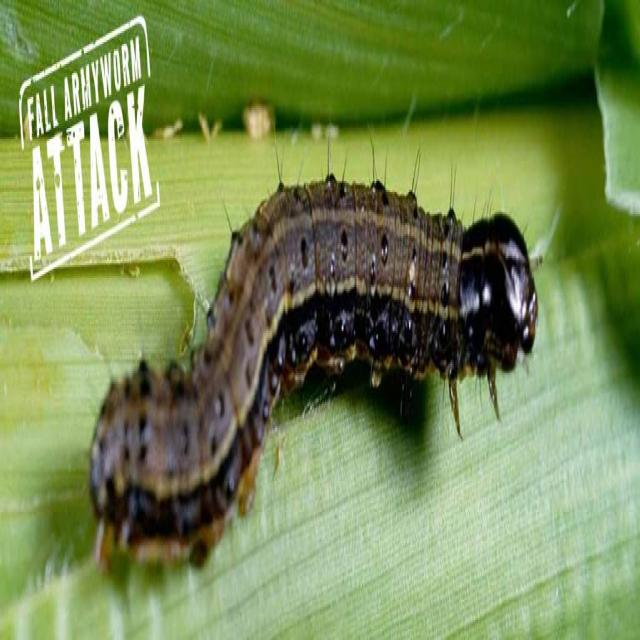Army Worm: (84, 162, 534, 584)
